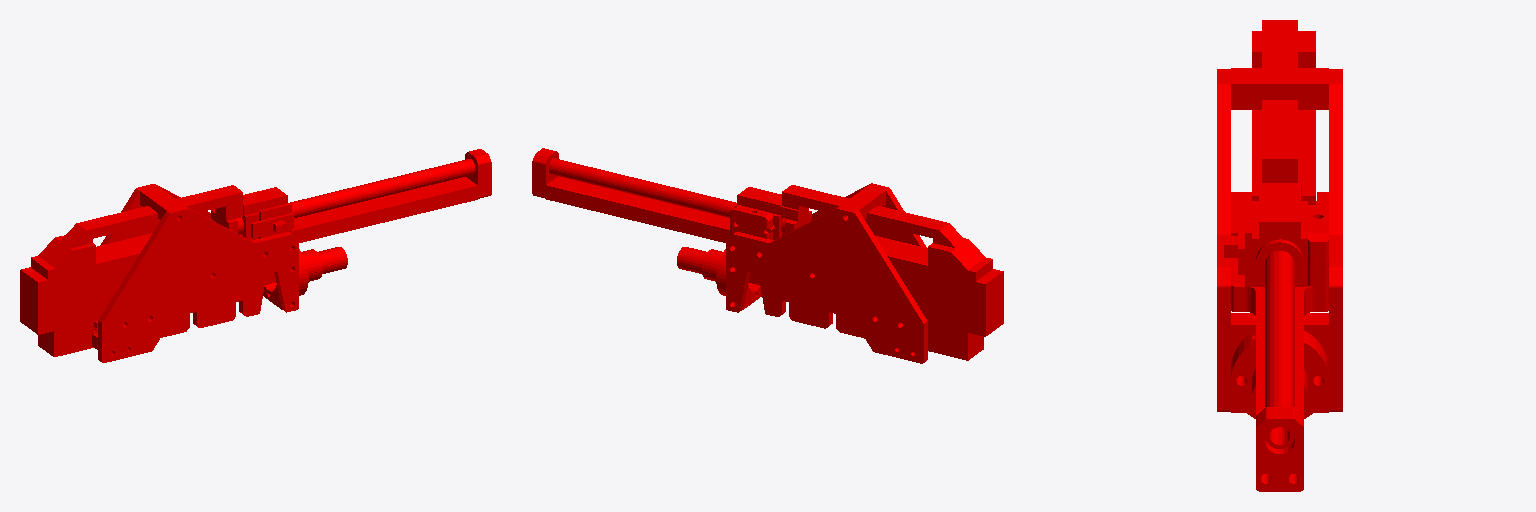
The robot description file, URDF, robot "test_robot":
<robot name="test_robot">
    <link name="base_link"/>

    <link name="link1">
        <visual>
            <geometry>
                <mesh filename="package://vis_lecture/stl/display_test.stl" />
            </geometry>
            <origin xyz="0 0 0" rpy="0 0 0"/>
            <material name="red">
                <color rgba="1.0 0.0 0.0 2.0"/>
            </material>
        </visual>
    </link>
    <joint name="joint1" type="fixed">
        <parent link="base_link"/>
        <child  link="link1"/>
    </joint>
</robot>

--- Render facts (derived) ---
3 views of the same robot in one strip: view 1: azimuth 30°, elevation 25°; view 2: azimuth 150°, elevation 25°; view 3: azimuth 270°, elevation 25° (orthographic).
Model test_robot with 2 links and 1 joints (1 fixed), rooted at base_link, posed every joint at zero.
Links seen in each view (by area): view 1: link1; view 2: link1; view 3: link1.
Link boxes in pixels (left/top/right/bottom): link1: left=20, top=149, right=491, bottom=362; link1: left=532, top=148, right=1003, bottom=363; link1: left=1217, top=20, right=1342, bottom=491.
Bounding box of the posed robot: 0.272 × 0.036 × 0.0765 m (x, y, z).
Meshes: 1 distinct files referenced, 1 mesh visuals loaded (1 binary STL).